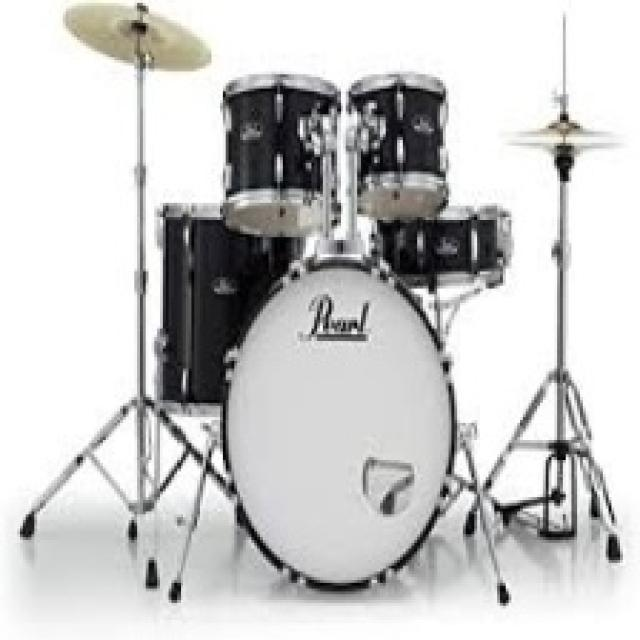drums: (28, 0, 629, 581)
